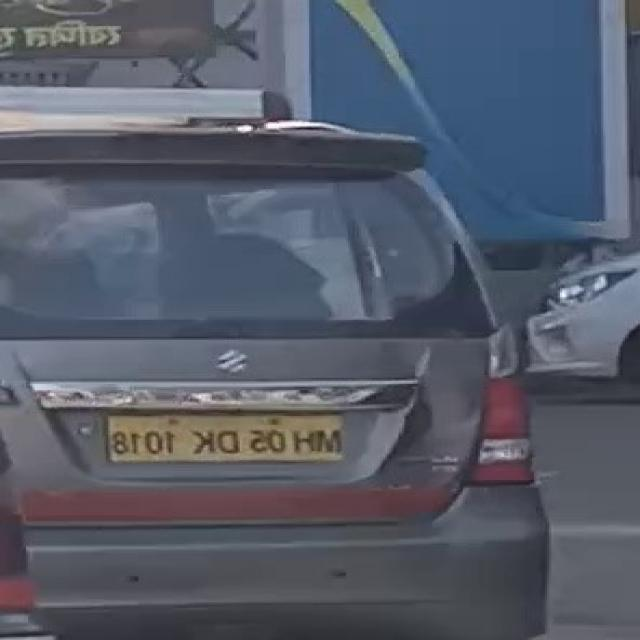license_plate: (97, 404, 357, 466)
